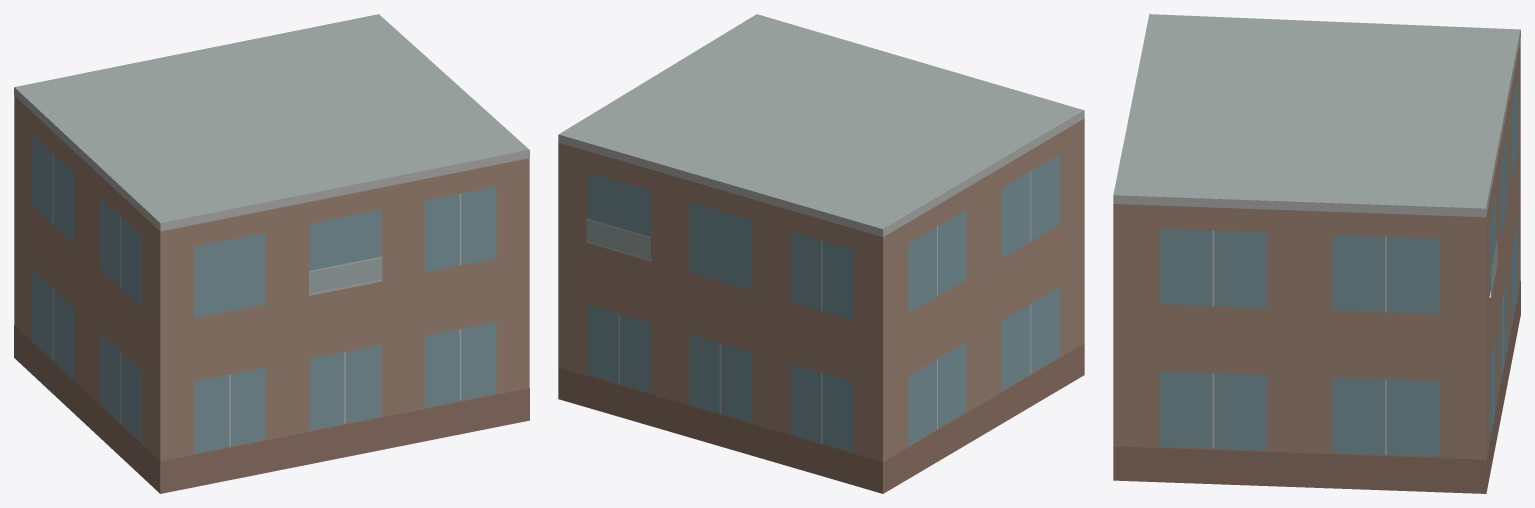
The model's file is survey-upis-32747813.glb.
3 renders of one model, left to right at view 1: azimuth 30°, elevation 25°; view 2: azimuth 150°, elevation 25°; view 3: azimuth 270°, elevation 25°, orthographic. The views are drawn at different scales.
Parts seen in each view (by area): view 1: survey-upis-32747813.tmp; view 2: survey-upis-32747813.tmp; view 3: survey-upis-32747813.tmp.
Part boxes in pixels (box(x1,y1,x2,y2)): survey-upis-32747813.tmp: box(14, 14, 529, 493); survey-upis-32747813.tmp: box(558, 14, 1084, 493); survey-upis-32747813.tmp: box(1113, 14, 1520, 493).
Size of the model in its own units: 11.71 by 8 by 10.37.
